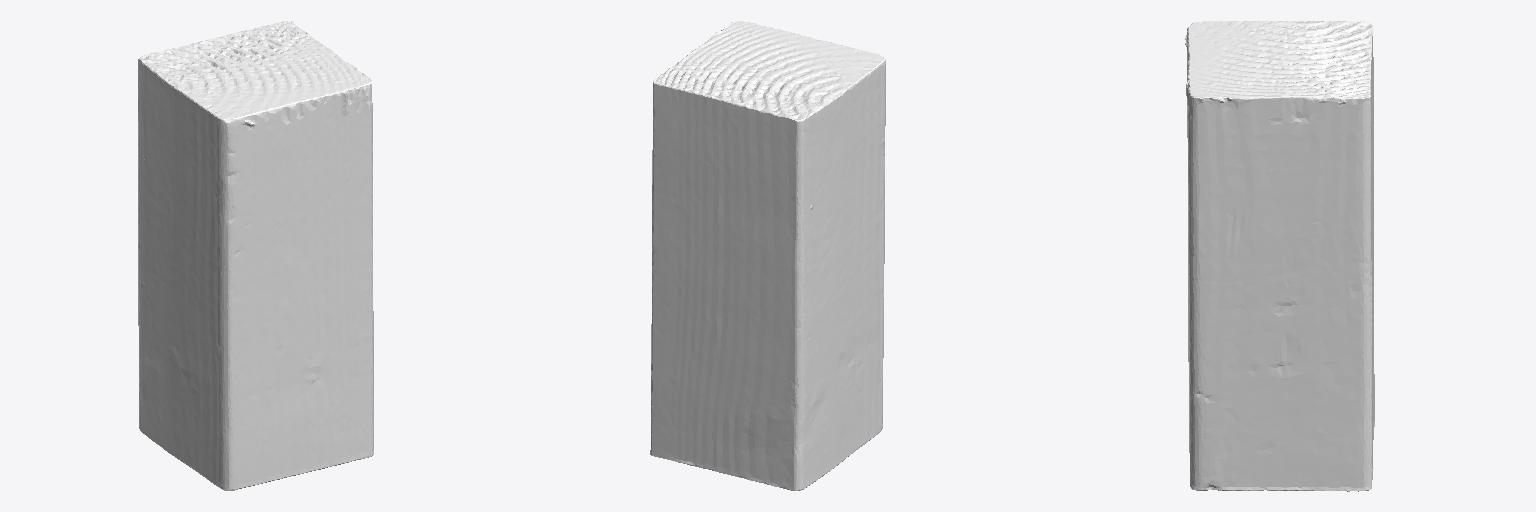
URDF robot description (apple):
<robot name="apple">
	<link name="base_link">
		<visual>
			<origin xyz="-0.0013105802251075094 0.003861242636253375 -0.03633673271131293" rpy="0.0 0.0 0.0" />
			<geometry>
				<mesh filename="013_apple/google_16k/textured.obj" scale="1 1 1" />
			</geometry>
			<material name="texture">
				<color rgba="1.0 1.0 1.0 1.0" />
			</material>
		</visual>
		<collision>
			<origin xyz="-0.0013105802251075094 0.003861242636253375 -0.03633673271131293" rpy="0.0 0.0 0.0" />
			<geometry>
				<mesh filename="013_apple/google_16k/textured_vhacd.obj" scale="1 1 1" />
			</geometry>
		</collision>
		<inertial>
			<mass value="0.068" />
			<inertia ixx="1e-3" ixy="0.0" ixz="0.0" iyy="1e-3" iyz="0.0" izz="1e-3" />
		</inertial>
	</link>
</robot>

--- Facts derived from the render (not from the file) ---
The picture shows the robot from 3 angles, left to right: view 1: azimuth 30°, elevation 25°; view 2: azimuth 150°, elevation 25°; view 3: azimuth 270°, elevation 25°; orthographic projection.
Robot: apple — 1 links, 0 joints (none); root link base_link; default pose: every joint at zero.
Links seen in each view (by area): view 1: base_link; view 2: base_link; view 3: base_link.
Link boxes in pixels (box(x1,y1,x2,y2)): base_link: box(138, 21, 373, 490); base_link: box(650, 21, 885, 490); base_link: box(1185, 20, 1374, 491).
Size in the robot's own frame: 0.0906 by 0.0899 by 0.206 metres.
1 mesh visuals loaded from 1 distinct referenced files (1 OBJ).